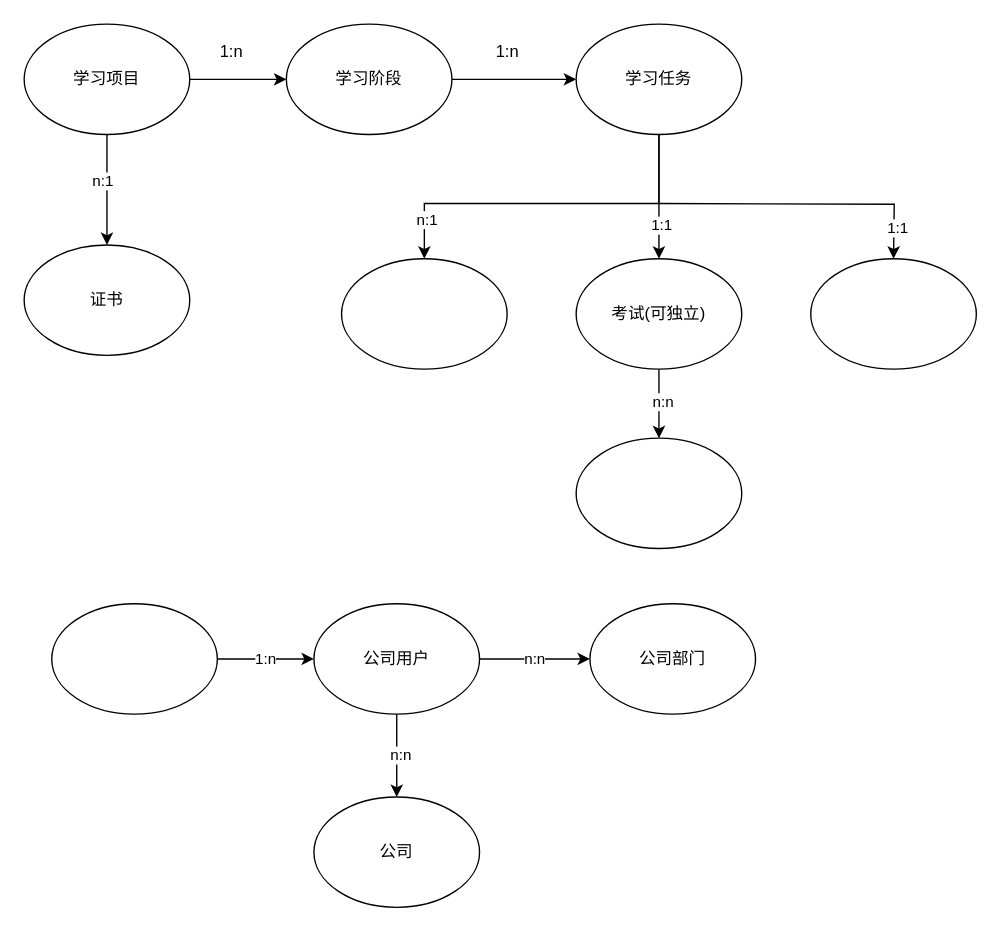
This 1001x932 diagram has some shape labels left out. The shapes that lost their labels are listed below. From the top down, each one's centre as x and y in pixels, then its label:
[423,313]: 素材
[892,313]: 直播(可独立)
[658,493]: 题库
[133,658]: 用户
